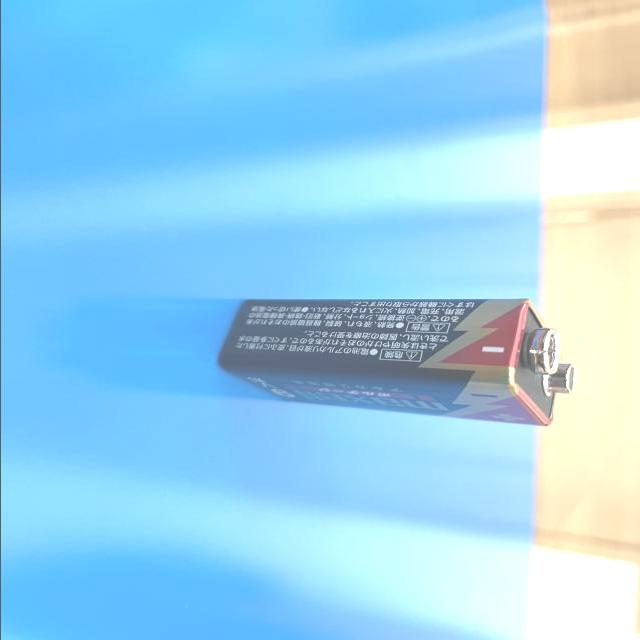9V: (219, 298, 575, 428)
